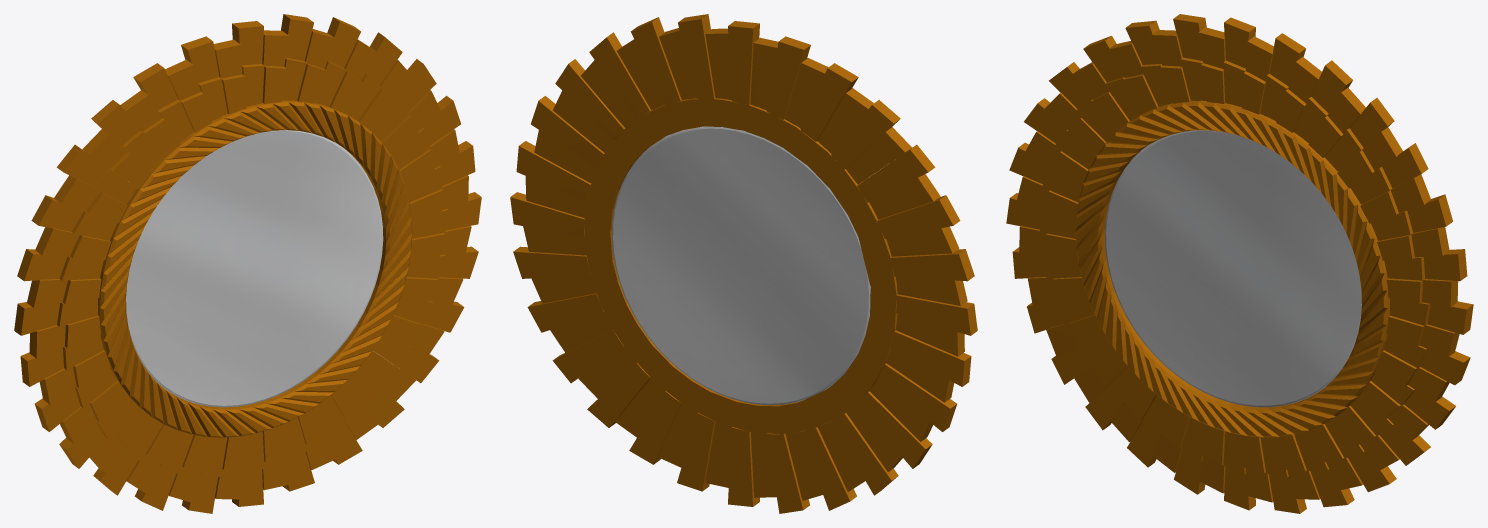
File: round-mirror-with-frame.obj
3 views of the same model, side by side, from view 1: azimuth 30°, elevation 25°; view 2: azimuth 150°, elevation 25°; view 3: azimuth 330°, elevation 25° (orthographic).
Parts seen in each view (by area): view 1: Frame, sweethome3d_window_mirror; view 2: Frame, sweethome3d_window_mirror; view 3: Frame, sweethome3d_window_mirror.
Boxes of the visible parts, x1,y1,x2,y2 form: Frame: [14, 14, 481, 513]; sweethome3d_window_mirror: [126, 130, 383, 407]; Frame: [510, 14, 977, 513]; sweethome3d_window_mirror: [611, 126, 870, 405]; Frame: [1006, 14, 1473, 513]; sweethome3d_window_mirror: [1104, 130, 1361, 407].
Bounding box in the file's own units: 44.26 × 44.26 × 2.21.
Materials: 2 (2 with a texture image).
